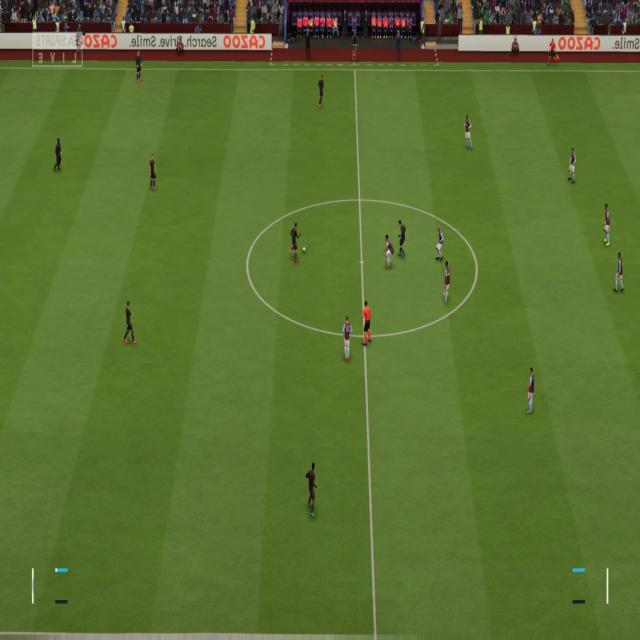Ball: (302, 246, 306, 252)
Referee: (361, 300, 372, 346)
Team-A: (305, 462, 318, 519), (122, 300, 138, 345), (289, 222, 301, 264), (397, 220, 406, 259), (149, 154, 157, 190), (54, 138, 62, 173), (317, 75, 325, 109), (134, 50, 142, 83)
Team-H: (342, 316, 353, 362), (526, 367, 536, 415), (613, 252, 624, 294), (382, 235, 395, 269), (602, 203, 611, 248), (463, 115, 473, 150), (443, 261, 451, 304), (435, 225, 444, 262), (567, 148, 576, 185)
person: (547, 38, 560, 66)
